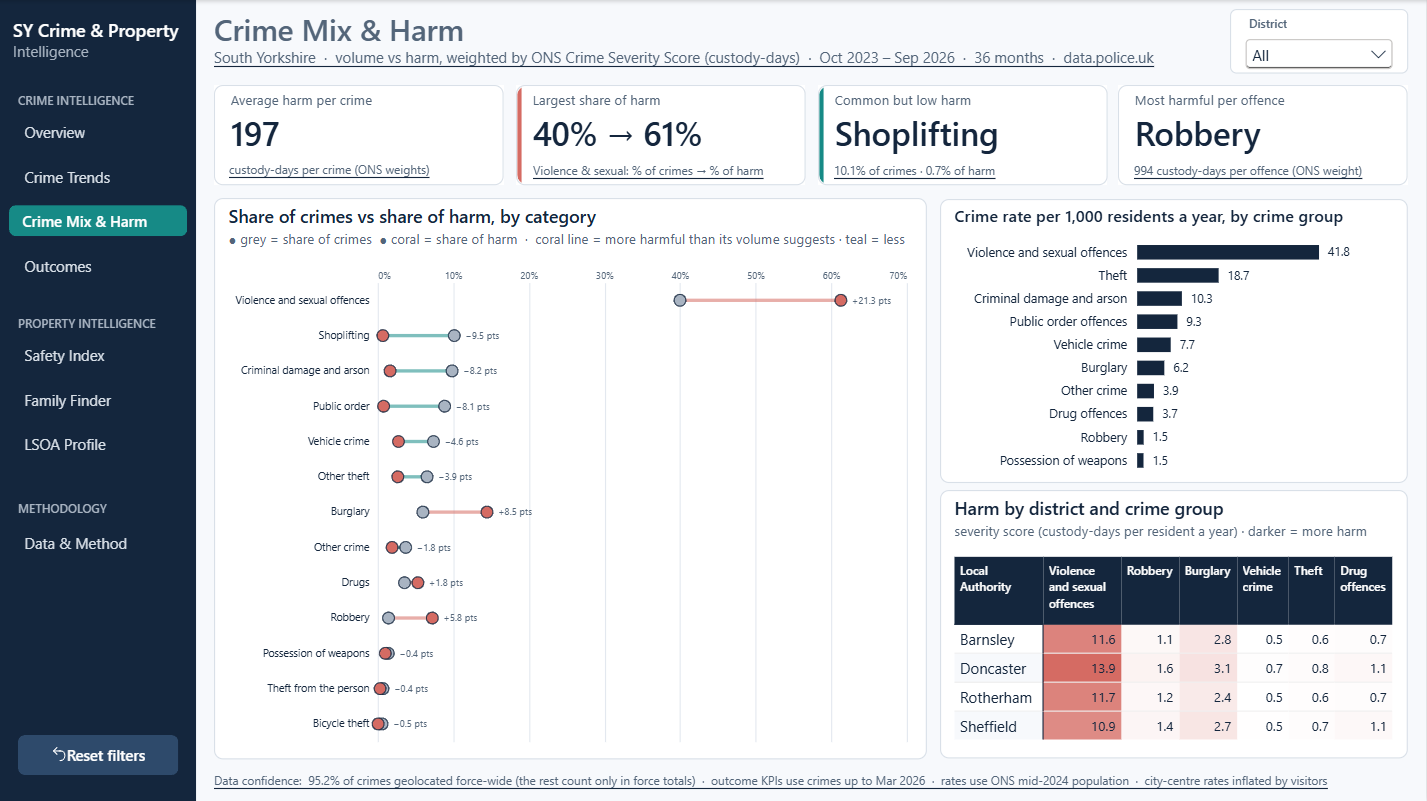

The page's visual inventory and layout, read from the dashboard file:
{"tool":"powerbi","page":{"name":"Crime Mix & Harm","canvas":[1280,720],"ordinal":2},"visuals":[{"type":"shape","box":[0,0,176,720],"z":0,"group":"g1"},{"type":"group","id":"g1","title":"Nav rail","box":[0,0,176,720],"z":0},{"type":"cardVisual","fields":{"Data":["_Measures.Top Harm Shift"]},"box":[463,76,260,90],"z":0,"group":"g3"},{"type":"cardVisual","fields":{"Data":["_Measures.High Volume Low Harm Category"]},"box":[734,76,260,90],"z":0,"group":"g4"},{"type":"cardVisual","fields":{"Data":["_Measures.Highest Harm Category"]},"box":[1004,76,260,90],"z":0,"group":"g5"},{"type":"cardVisual","title":"Card","fields":{"Data":["_Measures.Avg Severity per Crime"]},"box":[192.1,76.3,260,90],"z":0,"group":"g2"},{"type":"slicer","fields":{"Values":["LSOA.Local Authority"]},"box":[1104,8,160,58],"z":1000},{"type":"textbox","box":[12,16,160,56],"z":1000,"group":"g1"},{"type":"textbox","box":[206,142,232,18],"z":1000,"group":"g2"},{"type":"textbox","box":[477.9,142,232,18],"z":1000,"group":"g3"},{"type":"textbox","box":[748,142,232,18],"z":1000,"group":"g4"},{"type":"textbox","box":[1018.6,142,232,18],"z":1000,"group":"g5"},{"type":"textbox","box":[192,8,640,36],"z":2000},{"type":"textbox","box":[16,80,156,20],"z":2000,"group":"g1"},{"type":"textbox","box":[192,42,900,22],"z":3000},{"type":"textbox","box":[16,280,156,20],"z":3000,"group":"g1"},{"type":"group","id":"g2","title":"KPI P3-1","box":[192.1,76.3,260,90],"z":4000},{"type":"textbox","box":[16,446,156,20],"z":4000,"group":"g1"},{"type":"group","id":"g3","title":"KPI P3-2","box":[463,76,260,90],"z":5000},{"type":"pageNavigator","box":[8,104,160,150],"z":5000,"group":"g1"},{"type":"group","id":"g4","title":"KPI P3-3","box":[734,76,260,90],"z":6000},{"type":"pageNavigator","box":[8,304,160,108],"z":6000,"group":"g1"},{"type":"group","id":"g5","title":"KPI P3-4","box":[1004,76,260,90],"z":7000},{"type":"pageNavigator","box":[8,470,160.1,32],"z":7000,"group":"g1"},{"type":"deneb7E15AEF80B9E4D4F8E12924291ECE89A","title":"Share of crimes vs share of harm, by category","fields":{"dataset":["Crime Category.Crime Category","_Measures.% of Crimes","_Measures.% of Severity","_Measures.Crimes (excl. ASB)","_Measures.Avg Severity per Crime"]},"box":[192,178,640,504],"z":8000},{"type":"actionButton","box":[16,660,144,36],"z":8000,"group":"g1"},{"type":"clusteredBarChart","title":"Crime rate per 1,000 residents a year, by crime group","fields":{"Category":["Crime Category.Crime Group"],"Y":["_Measures.Crime Rate per 1,000"]},"box":[843.9,178.7,420.1,255],"z":9000},{"type":"pivotTable","title":"Harm by district and crime group","fields":{"Columns":["Crime Category.Crime Group"],"Rows":["LSOA.Local Authority"],"Values":["_Measures.Severity Score"]},"box":[843.9,439.9,420.1,241.5],"z":10000},{"type":"textbox","box":[192,690,1072,22],"z":11000}]}

Visuals, with their boxes on the page's 1280x720 design canvas (x1, y1, x2, y2). These are canvas units, not pixel positions in the 1427x801 screenshot, which may show the page scaled, cropped or inside an application window:
shape: locate(0, 0, 176, 720)
"Nav rail" group: locate(0, 0, 176, 720)
cardVisual - _Measures.Top Harm Shift: locate(463, 76, 723, 166)
cardVisual - _Measures.High Volume Low Harm Category: locate(734, 76, 994, 166)
cardVisual - _Measures.Highest Harm Category: locate(1004, 76, 1264, 166)
"Card" cardVisual: locate(192, 76, 452, 166)
slicer - LSOA.Local Authority: locate(1104, 8, 1264, 66)
textbox: locate(12, 16, 172, 72)
textbox: locate(206, 142, 438, 160)
textbox: locate(478, 142, 710, 160)
textbox: locate(748, 142, 980, 160)
textbox: locate(1019, 142, 1251, 160)
textbox: locate(192, 8, 832, 44)
textbox: locate(16, 80, 172, 100)
textbox: locate(192, 42, 1092, 64)
textbox: locate(16, 280, 172, 300)
"KPI P3-1" group: locate(192, 76, 452, 166)
textbox: locate(16, 446, 172, 466)
"KPI P3-2" group: locate(463, 76, 723, 166)
pageNavigator: locate(8, 104, 168, 254)
"KPI P3-3" group: locate(734, 76, 994, 166)
pageNavigator: locate(8, 304, 168, 412)
"KPI P3-4" group: locate(1004, 76, 1264, 166)
pageNavigator: locate(8, 470, 168, 502)
"Share of crimes vs share of harm, by category" deneb7E15AEF80B9E4D4F8E12924291ECE89A: locate(192, 178, 832, 682)
actionButton: locate(16, 660, 160, 696)
"Crime rate per 1,000 residents a year, by crime group" clusteredBarChart: locate(844, 179, 1264, 434)
"Harm by district and crime group" pivotTable: locate(844, 440, 1264, 681)
textbox: locate(192, 690, 1264, 712)
